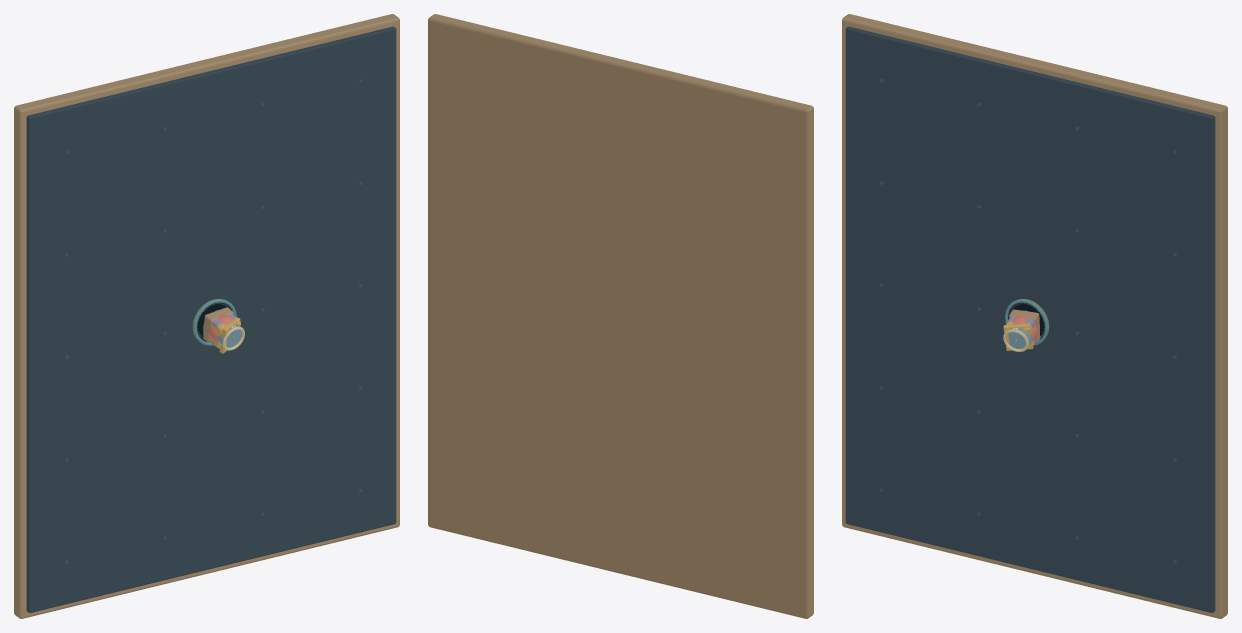
File: blackhole_dark.glb
3 renders of one model, left to right at view 1: azimuth 30°, elevation 25°; view 2: azimuth 150°, elevation 25°; view 3: azimuth 330°, elevation 25°, orthographic.
Parts seen in each view (by area): view 1: part (×2); view 2: part; view 3: part (×2).
Boxes of the visible parts, x1,y1,x2,y2 form: part (×2): [14, 14, 399, 618]; part: [428, 14, 813, 618]; part (×2): [842, 14, 1227, 618].
Size of the model in its own units: 358 by 458 by 47.21.
